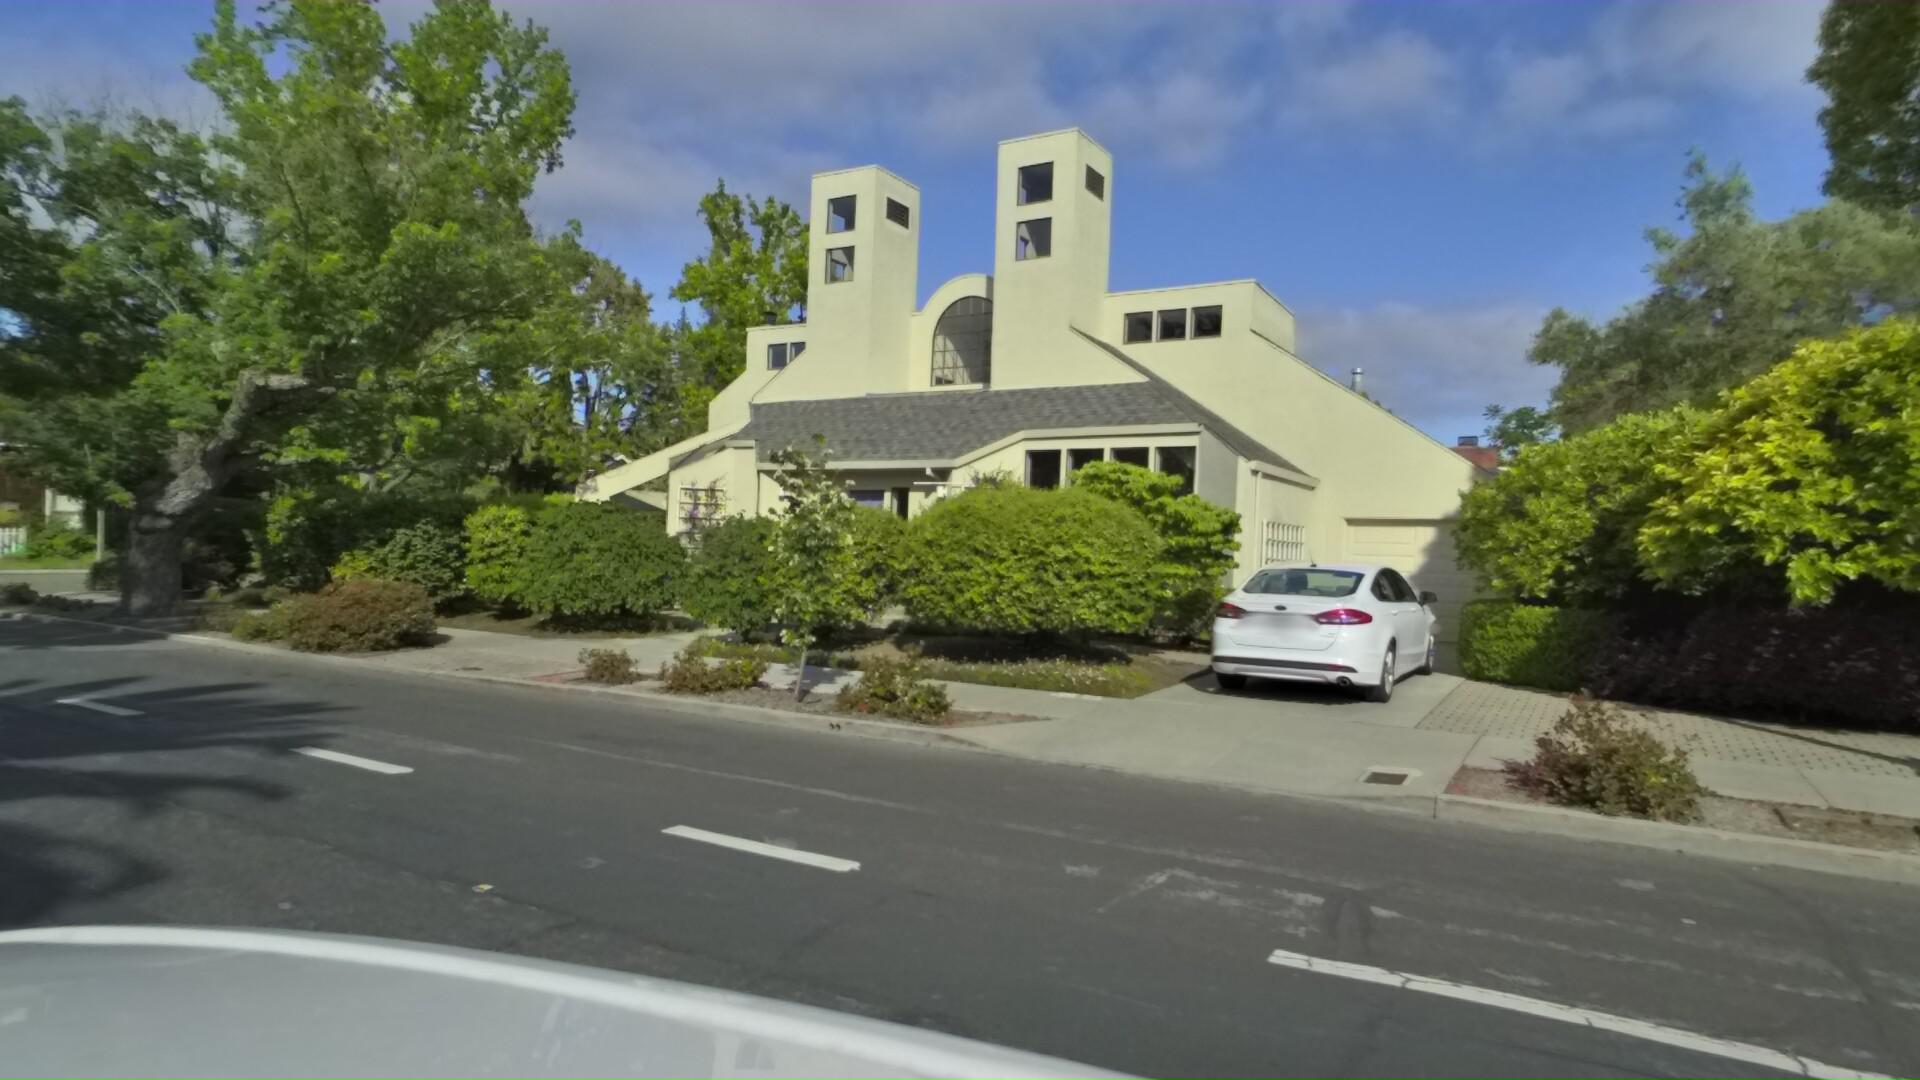car: (1149, 553, 1412, 716)
